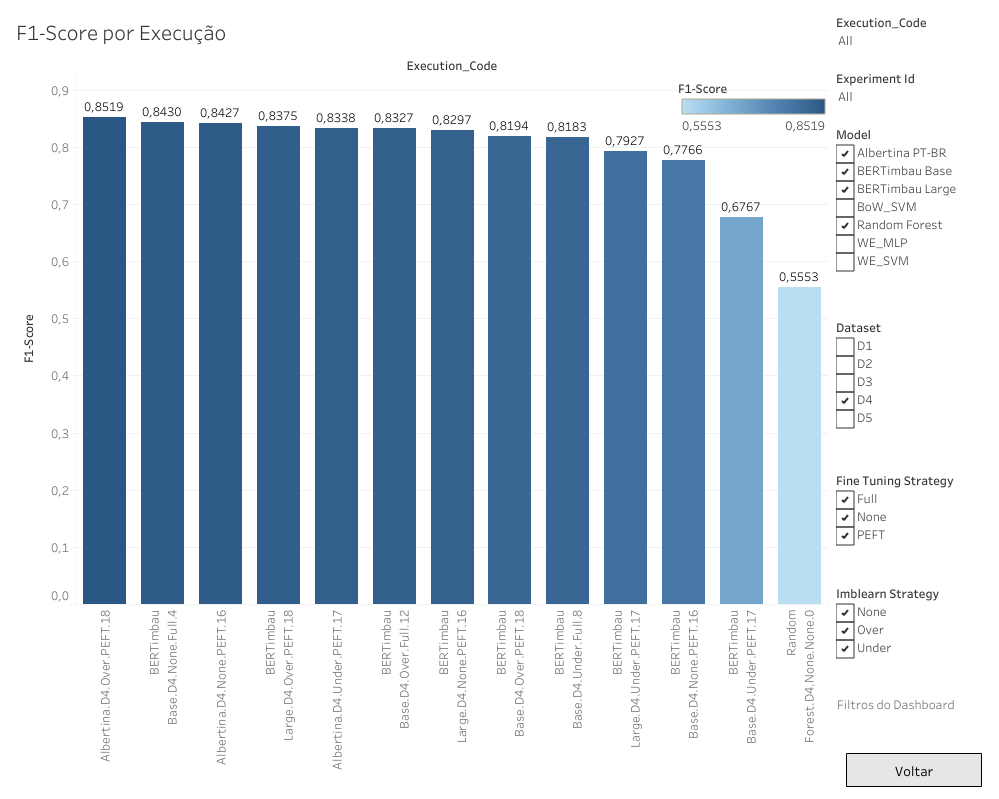

The page's visual inventory and layout, read from the dashboard file:
{"tool":"tableau","page":{"name":"Ranking","canvas":[1000,800],"ordinal":3},"visuals":[{"type":"worksheet","title":"F1-Score Por Execução","mark":"Automatic","rows":["f1-score"],"cols":["Calculation_2274740024942190596"],"box":[8,8,824,784]},{"type":"filter","title":"Filtros Gerais","param":"[federated.0lcw1tt1pcm13514wuu4203rwf2l].[none:Calculation_2274740024942190596:n","box":[832,8,160,56]},{"type":"filter","title":"Filtros Gerais","param":"[federated.0lcw1tt1pcm13514wuu4203rwf2l].[none:experiment_id:ok]","box":[832,64,160,56]},{"type":"legend","title":"F1-Score Por Execução","param":"[federated.0lcw1tt1pcm13514wuu4203rwf2l].[attr:f1-score:qk]","box":[678,75,152,79]},{"type":"filter","title":"Filtros Gerais","param":"[federated.0lcw1tt1pcm13514wuu4203rwf2l].[none:model:nk]","box":[832,120,160,193]},{"type":"filter","title":"Filtros Gerais","param":"[federated.0lcw1tt1pcm13514wuu4203rwf2l].[none:dataset:nk]","box":[832,313,160,153]},{"type":"filter","title":"Filtros Gerais","param":"[federated.0lcw1tt1pcm13514wuu4203rwf2l].[none:fine_tuning_strategy:nk]","box":[832,466,160,113]},{"type":"filter","title":"Filtros Gerais","param":"[federated.0lcw1tt1pcm13514wuu4203rwf2l].[none:imblearn_strategy:nk]","box":[832,579,160,113]},{"type":"worksheet","title":"Filtros Gerais","mark":"Automatic","box":[837,695,160,99]},{"type":"dashboard-object","box":[846,753,136,34]}]}

Visuals, with their boxes in screenshot pixels (x1, y1, x2, y2), scaled from the page's 1000x800 canvas onto the 999x799 screenshot:
"F1-Score Por Execução" worksheet: Rect(8, 8, 831, 791)
"Filtros Gerais" filter: Rect(831, 8, 991, 64)
"Filtros Gerais" filter: Rect(831, 64, 991, 120)
"F1-Score Por Execução" legend: Rect(677, 75, 829, 154)
"Filtros Gerais" filter: Rect(831, 120, 991, 313)
"Filtros Gerais" filter: Rect(831, 313, 991, 465)
"Filtros Gerais" filter: Rect(831, 465, 991, 578)
"Filtros Gerais" filter: Rect(831, 578, 991, 691)
"Filtros Gerais" worksheet: Rect(836, 694, 996, 793)
dashboard-object: Rect(845, 752, 981, 786)
